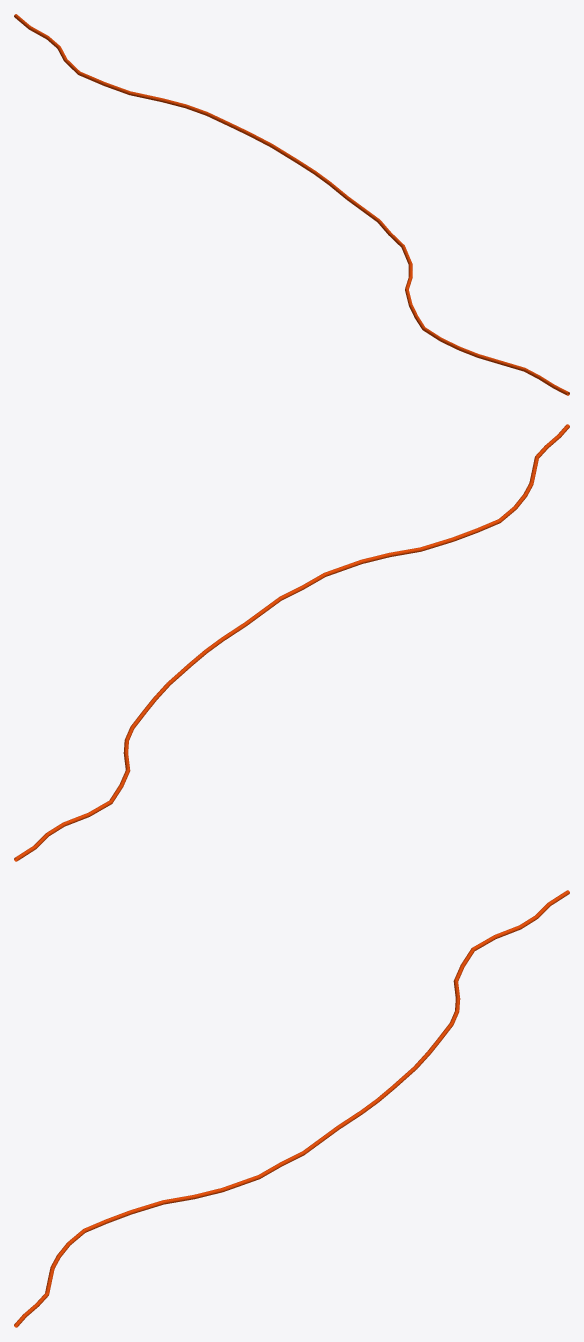
Rendered from Cable11.fbx.
3 views of the same model, one above another, from view 1: azimuth 30°, elevation 25°; view 2: azimuth 150°, elevation 25°; view 3: azimuth 330°, elevation 25° (orthographic). The views are drawn at different scales.
Parts seen in each view (by area): view 1: Vert.010; view 2: Vert.010; view 3: Vert.010.
Part boxes in pixels (bbox=[...]): Vert.010: bbox=[14, 14, 569, 395]; Vert.010: bbox=[14, 424, 569, 861]; Vert.010: bbox=[14, 890, 569, 1327].
Bounding box in the file's own units: 46.65 × 2 × 521.
